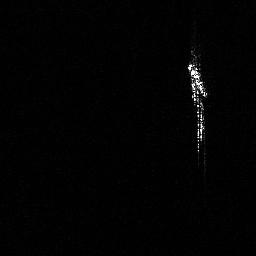ship: (184, 54, 213, 160)
